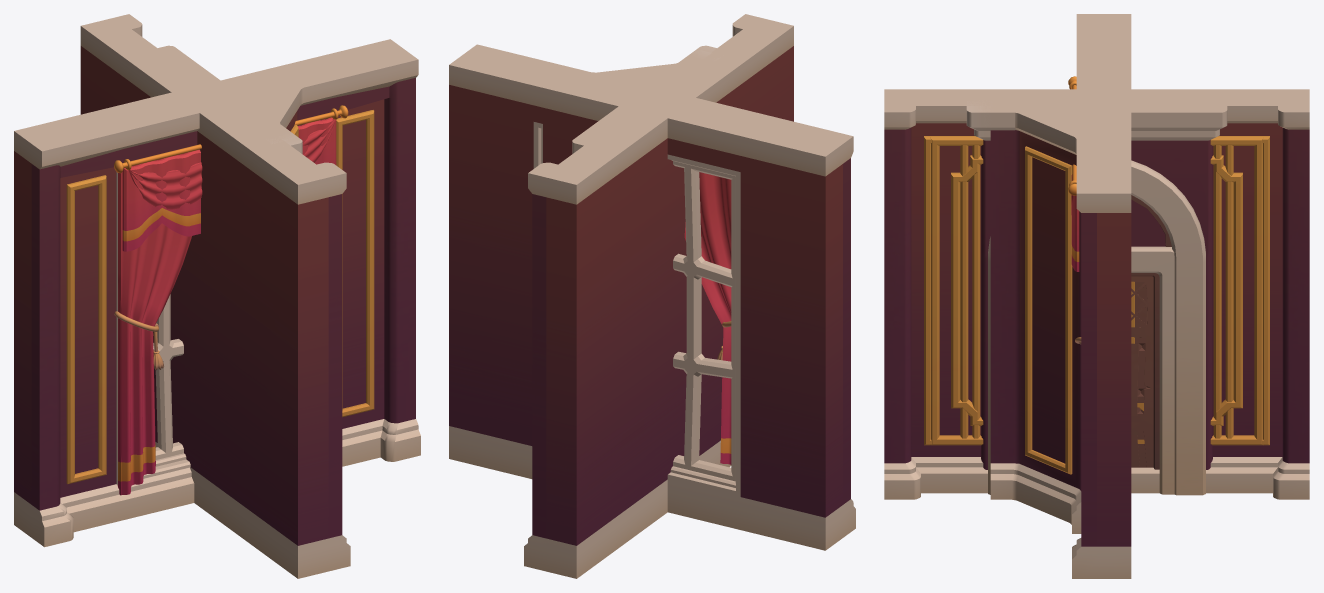
File: Walls.fbx
The picture shows the model from 3 angles, left to right: view 1: azimuth 30°, elevation 25°; view 2: azimuth 150°, elevation 25°; view 3: azimuth 270°, elevation 25°; orthographic projection. The views are drawn at different scales.
Visible parts, largest first — view 1: Window_Wall, Wall, Wall_2, Cascade_Curtains, Corner, Valance_Curtains, Window_Frames, Door, Window_Boards, Curtain_Bar, Arch_Door; view 2: Window_Wall, Wall, Wall_2, Window_Frames, Corner, Cascade_Curtains, Window_Boards, Arch_Door, Door; view 3: Wall, Corner, Wall_2, Window_Wall, Arch_Door, Door, Door_Wall, Arch_Door_Wall, Valance_Curtains.
Boxes of the visible parts, x1,y1,x2,y2 form: Window_Wall: [14, 39, 420, 547]; Wall: [80, 14, 350, 578]; Wall_2: [81, 14, 350, 578]; Cascade_Curtains: [114, 119, 335, 495]; Corner: [180, 62, 324, 537]; Valance_Curtains: [122, 117, 336, 251]; Window_Frames: [153, 294, 186, 466]; Door: [164, 50, 296, 143]; Window_Boards: [116, 172, 190, 484]; Curtain_Bar: [114, 105, 348, 173]; Arch_Door: [158, 45, 302, 153]; Window_Wall: [449, 44, 855, 550]; Wall: [524, 14, 793, 578]; Wall_2: [524, 14, 793, 578]; Window_Frames: [541, 128, 735, 487]; Corner: [543, 54, 739, 455]; Cascade_Curtains: [684, 172, 731, 464]; Window_Boards: [533, 122, 740, 496]; Arch_Door: [572, 45, 716, 153]; Door: [603, 50, 723, 135]; Wall: [884, 89, 1309, 499]; Corner: [990, 89, 1131, 533]; Wall_2: [884, 89, 1309, 499]; Window_Wall: [1072, 14, 1131, 578]; Arch_Door: [966, 99, 1227, 495]; Door: [979, 99, 1215, 494]; Door_Wall: [912, 136, 1280, 493]; Arch_Door_Wall: [913, 456, 1280, 493]; Valance_Curtains: [1071, 174, 1079, 271].
Size of the model in its own units: 4 by 4 by 4.
